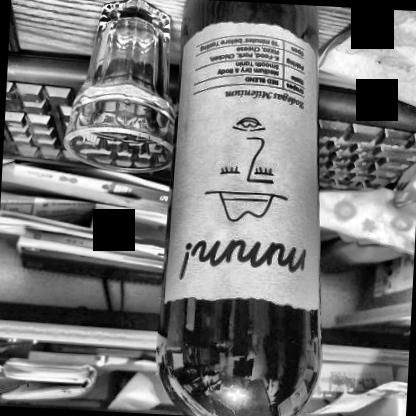umm: (165, 20, 327, 313)
